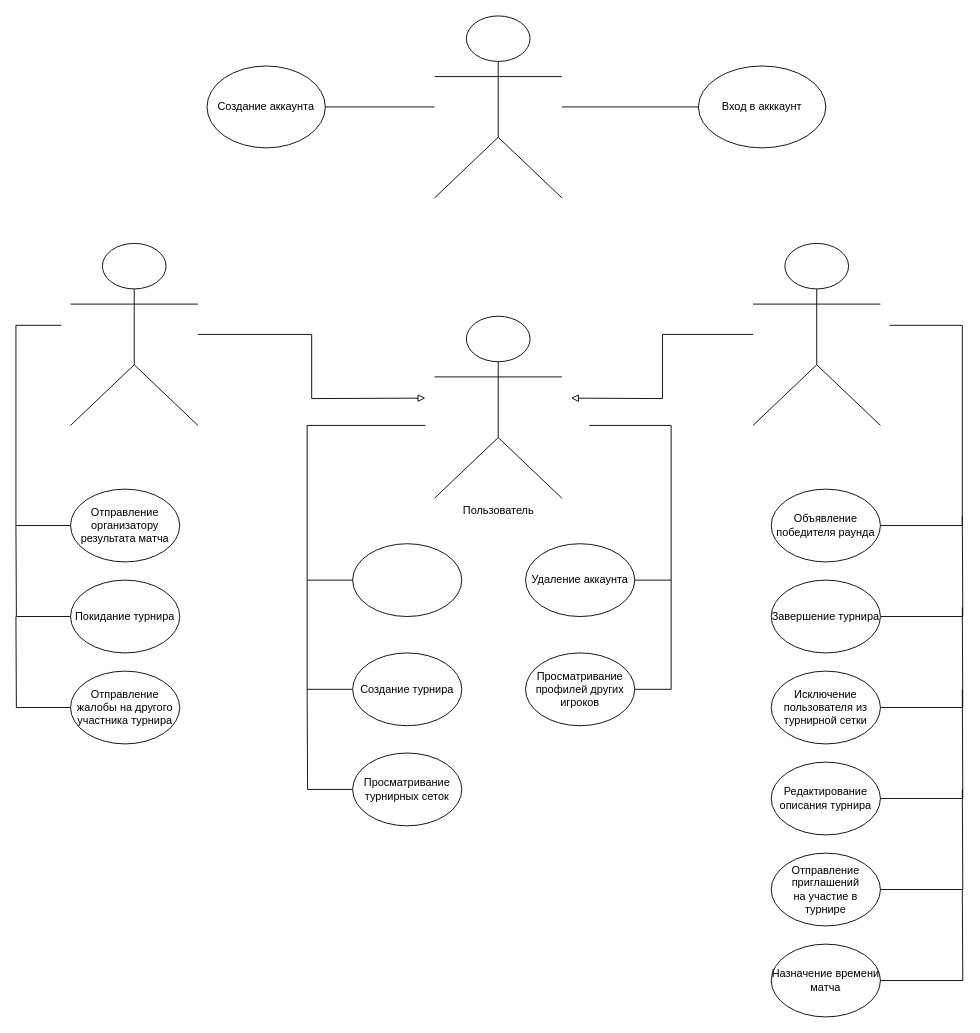
This 980x1033 diagram has some shape labels left out. Here are the shapes that lost their labels. From the top down, the box of each, then its label:
(434, 15, 562, 198): Гость
(70, 243, 198, 425): Участник турнира
(752, 243, 880, 425): Создатель турнира
(352, 543, 462, 617): Регистрация на турнир
